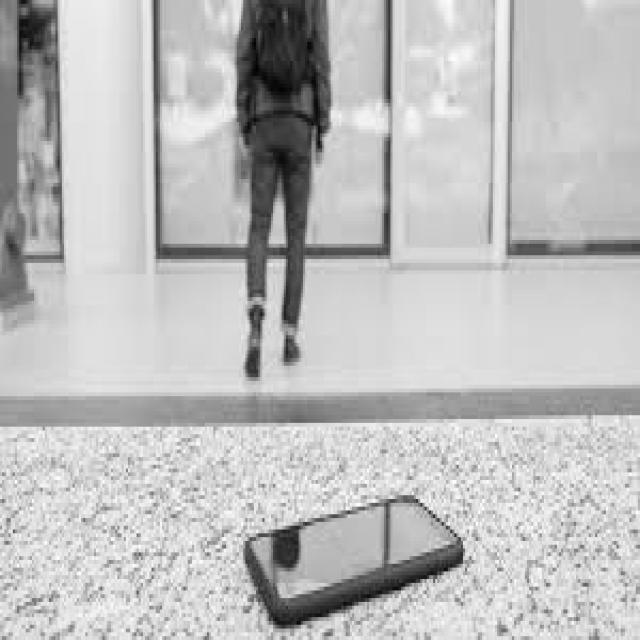No gun_phone: (246, 493, 464, 625)
